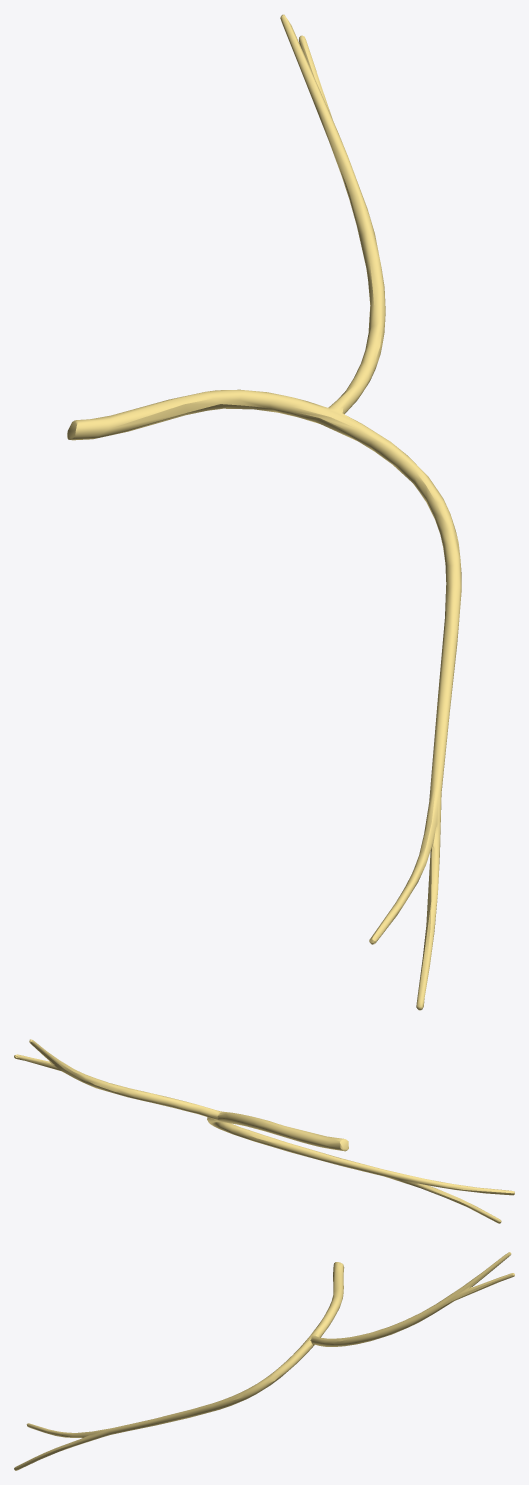
File: fma6752_fj4197.glb
3 renders of one model, top to bottom at view 1: azimuth 30°, elevation 25°; view 2: azimuth 150°, elevation 25°; view 3: azimuth 270°, elevation 25°, orthographic. The views are drawn at different scales.
Visible parts, largest first — view 1: FMA6752_FJ4197; view 2: FMA6752_FJ4197; view 3: FMA6752_FJ4197.
Boxes of the visible parts, x1,y1,x2,y2 form: FMA6752_FJ4197: [67, 14, 461, 1010]; FMA6752_FJ4197: [14, 1039, 514, 1223]; FMA6752_FJ4197: [14, 1252, 514, 1470].
Size of the model in its own units: 0.0284 by 0.0388 by 0.0579.
